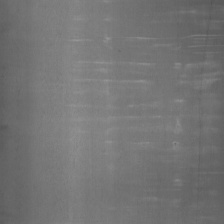waist_folding: (125, 23, 193, 197)
